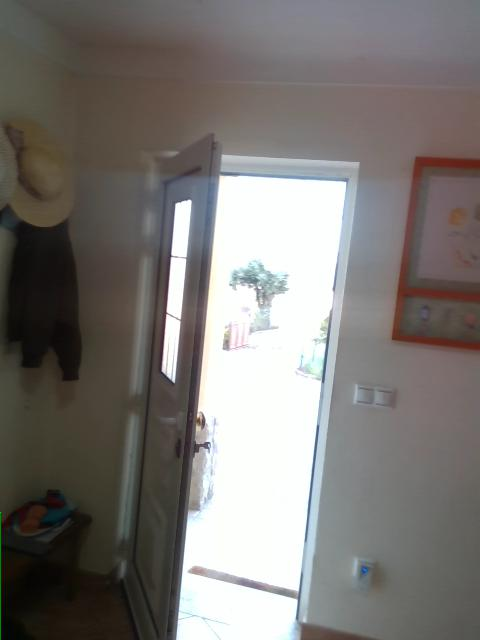semi_door: (114, 127, 359, 639)
